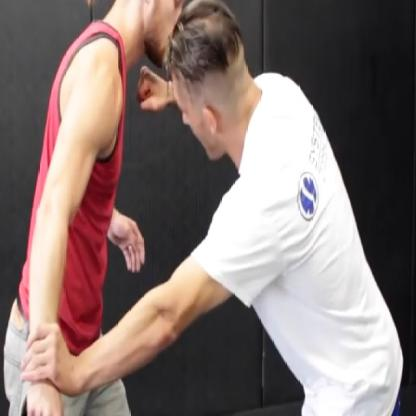knife: (15, 388, 133, 415)
